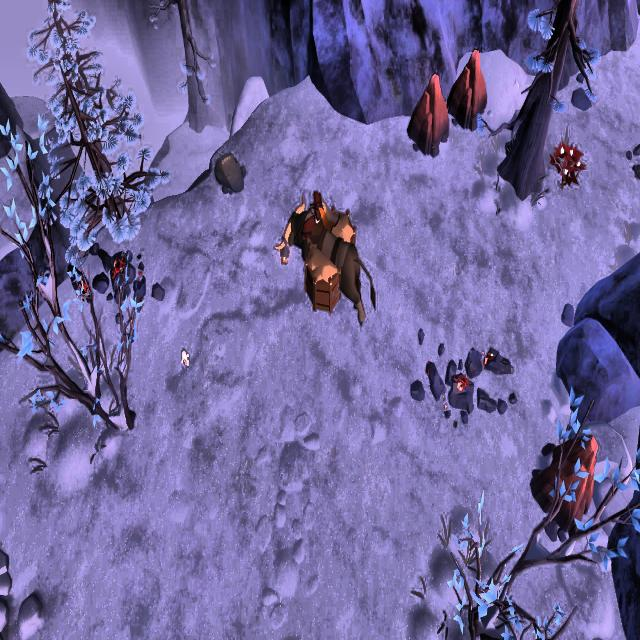fiber_t5: (548, 137, 586, 185)
rock_t5: (533, 431, 597, 530), (406, 71, 449, 161), (448, 48, 489, 128)
